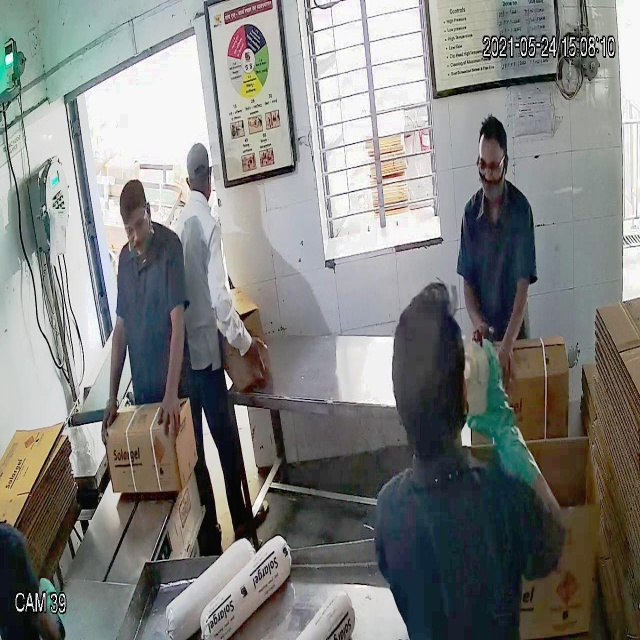Gafas: (473, 154, 512, 183), (122, 212, 152, 243)
